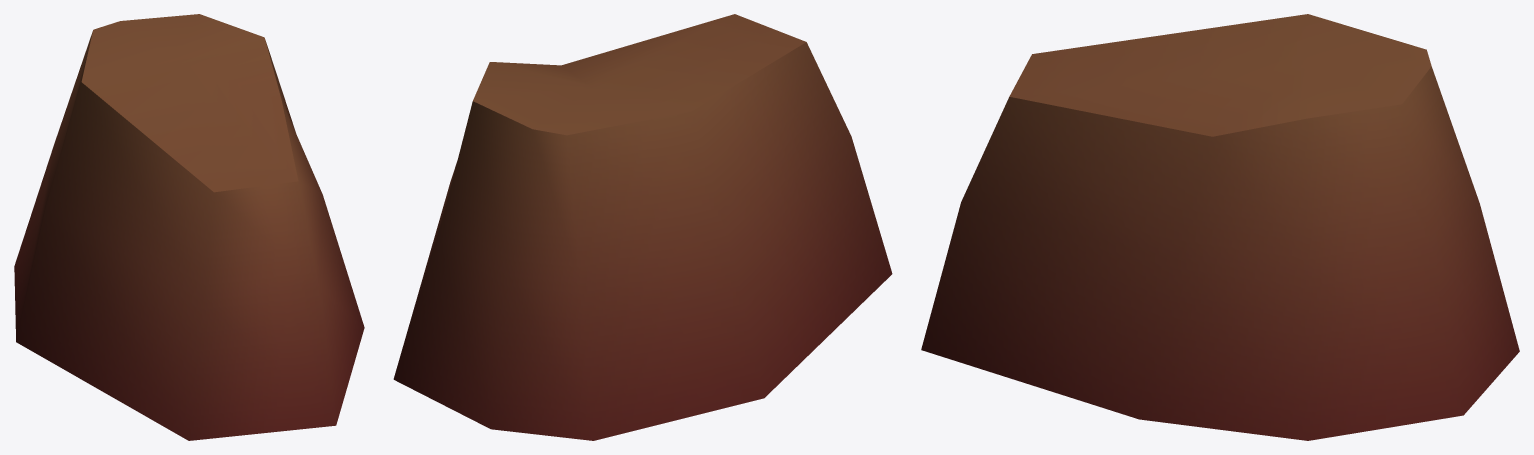
Rendered from Mountain_big.023.fbx.
3 views of the same model, side by side, from view 1: azimuth 30°, elevation 25°; view 2: azimuth 150°, elevation 25°; view 3: azimuth 270°, elevation 25° (orthographic). The views are drawn at different scales.
Parts seen in each view (by area): view 1: Mountain_big.023; view 2: Mountain_big.023; view 3: Mountain_big.023.
Part boxes in pixels (box(x1,y1,x2,y2)): Mountain_big.023: box(14, 14, 364, 440); Mountain_big.023: box(393, 14, 892, 440); Mountain_big.023: box(921, 14, 1519, 440).
Size of the model in its own units: 105 by 77.8 by 148.
